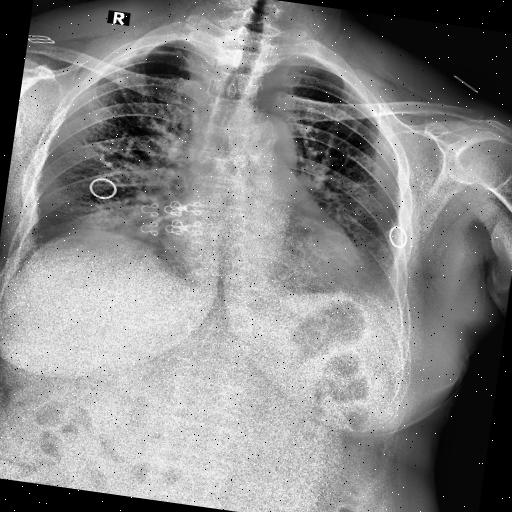0- Aortic enlargement: (223, 104, 310, 174), (224, 108, 302, 165), (237, 110, 304, 173)
3- Cardiomegaly: (152, 208, 372, 320), (152, 213, 382, 301), (152, 209, 372, 301)
